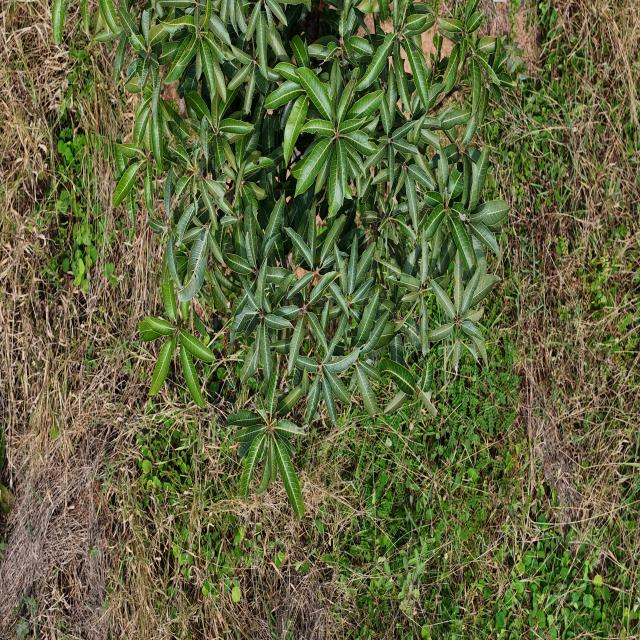mangoTree: (51, 0, 514, 518)
